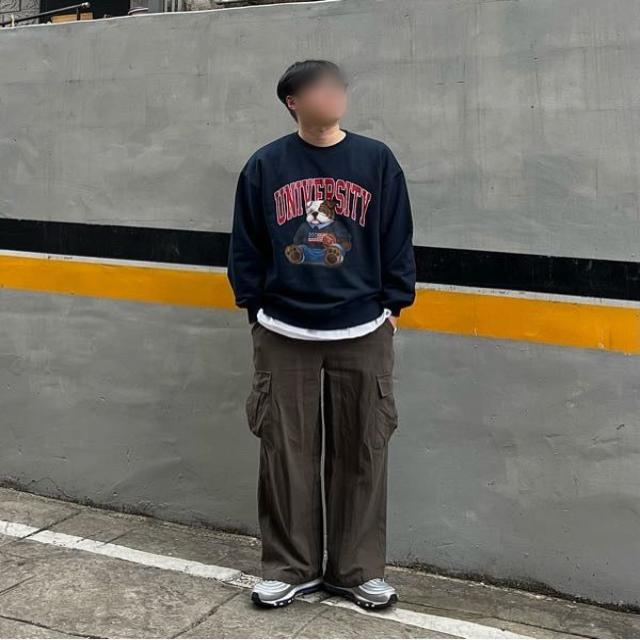cottonpants: (244, 314, 398, 580)
mtm: (224, 131, 418, 331)
